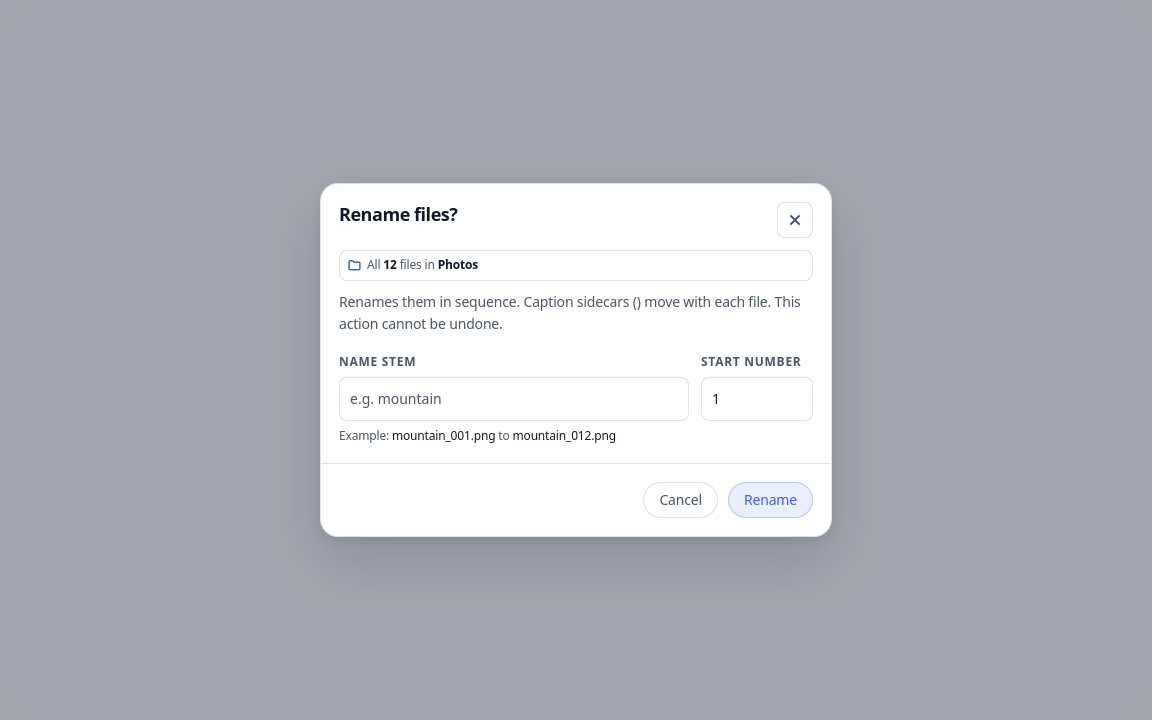
Test: BatchRenameDialog › refuses a start number that is not a whole number
Type "portugal" into the field labelled "Name stem".
click(514, 399); type("portugal")  # box [339,377,689,421]
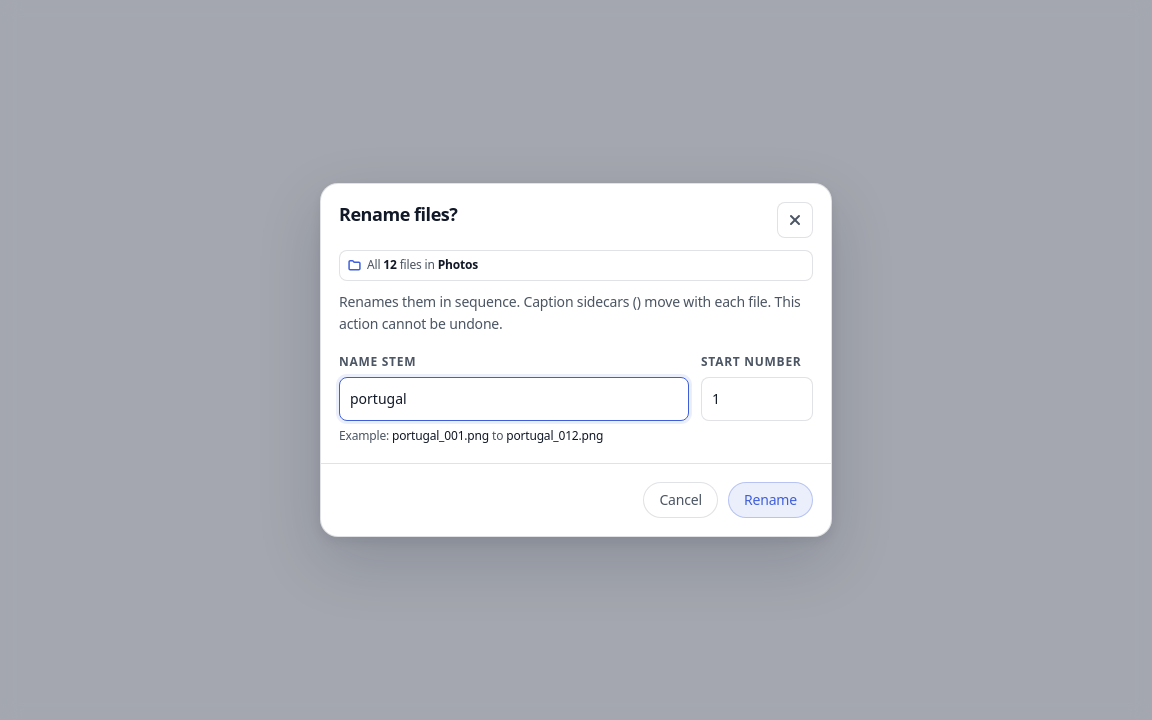
Replace the text in the number field labelled "Start number" with "-4" at [757, 399], box [701,377,813,421]
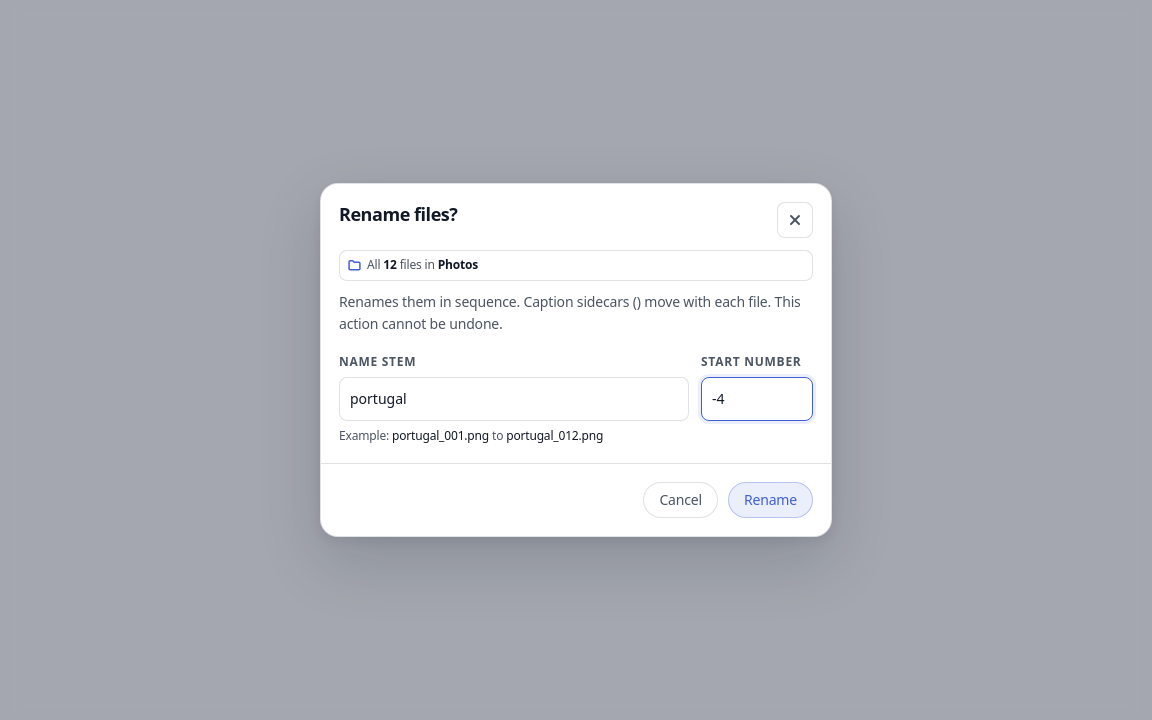
Click the button "Rename".
click(770, 500)  # box [728,482,813,518]
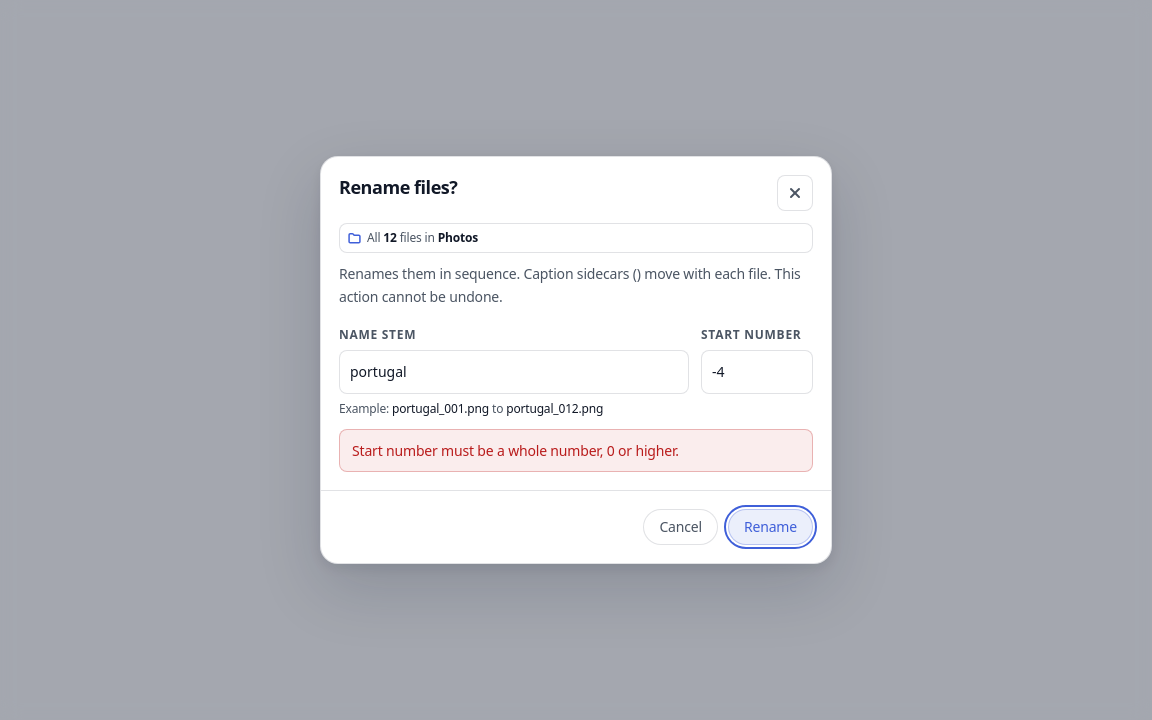
Check: the message shows "whole number", box [352,441,679,460]
